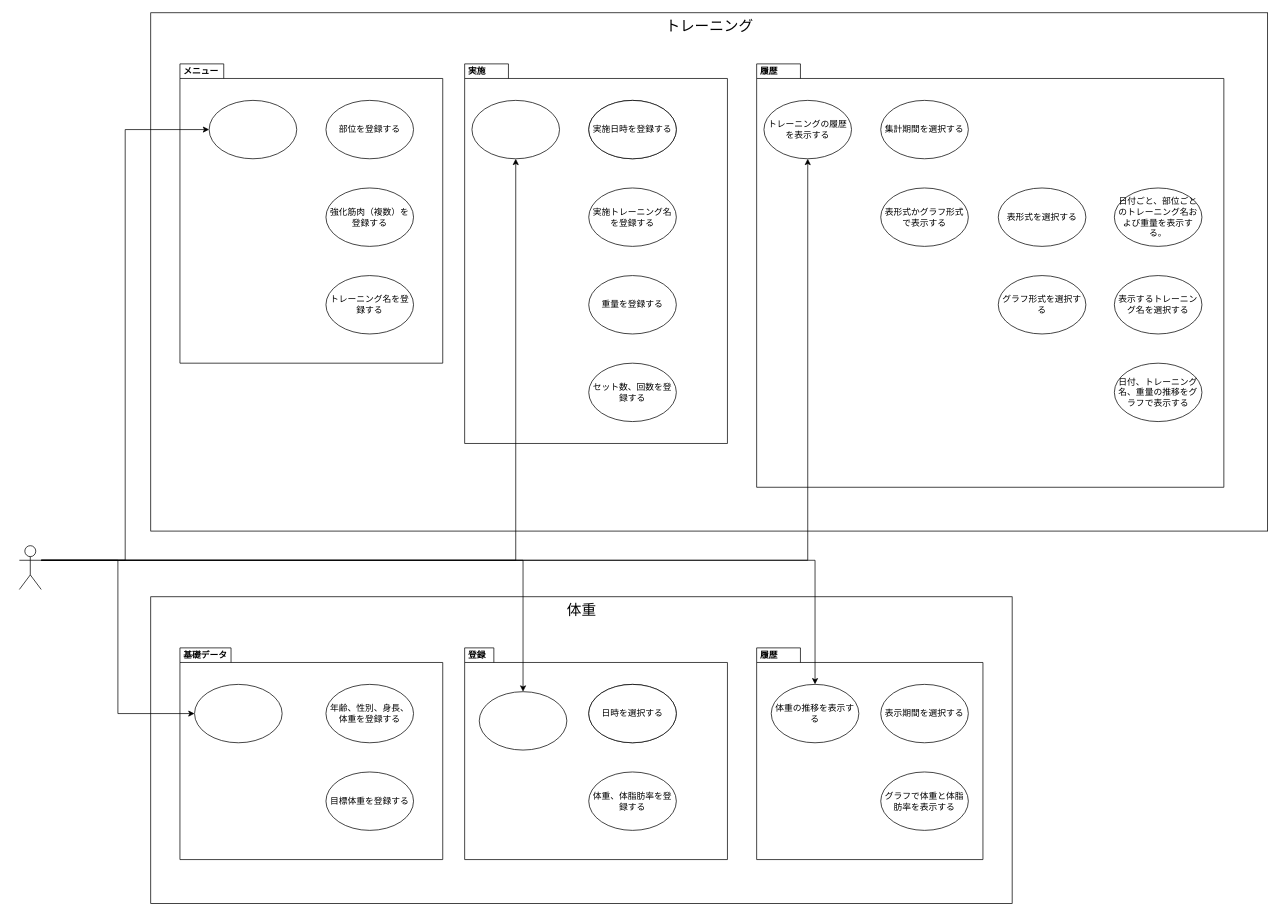
Image size: 1280x916. Some labels were removed from this diagram. Each missing label, with the centre of its shape:
"トレーニングメニューを登録する" goes at [252,129].
"ユーザー" goes at [30,567].
"体重を登録する" goes at [523,720].
"基礎データを登録する" goes at [238,713].
"実施トレーニングを登録する" goes at [515,129].
